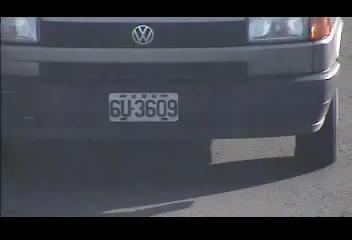plate: (106, 90, 181, 124)
